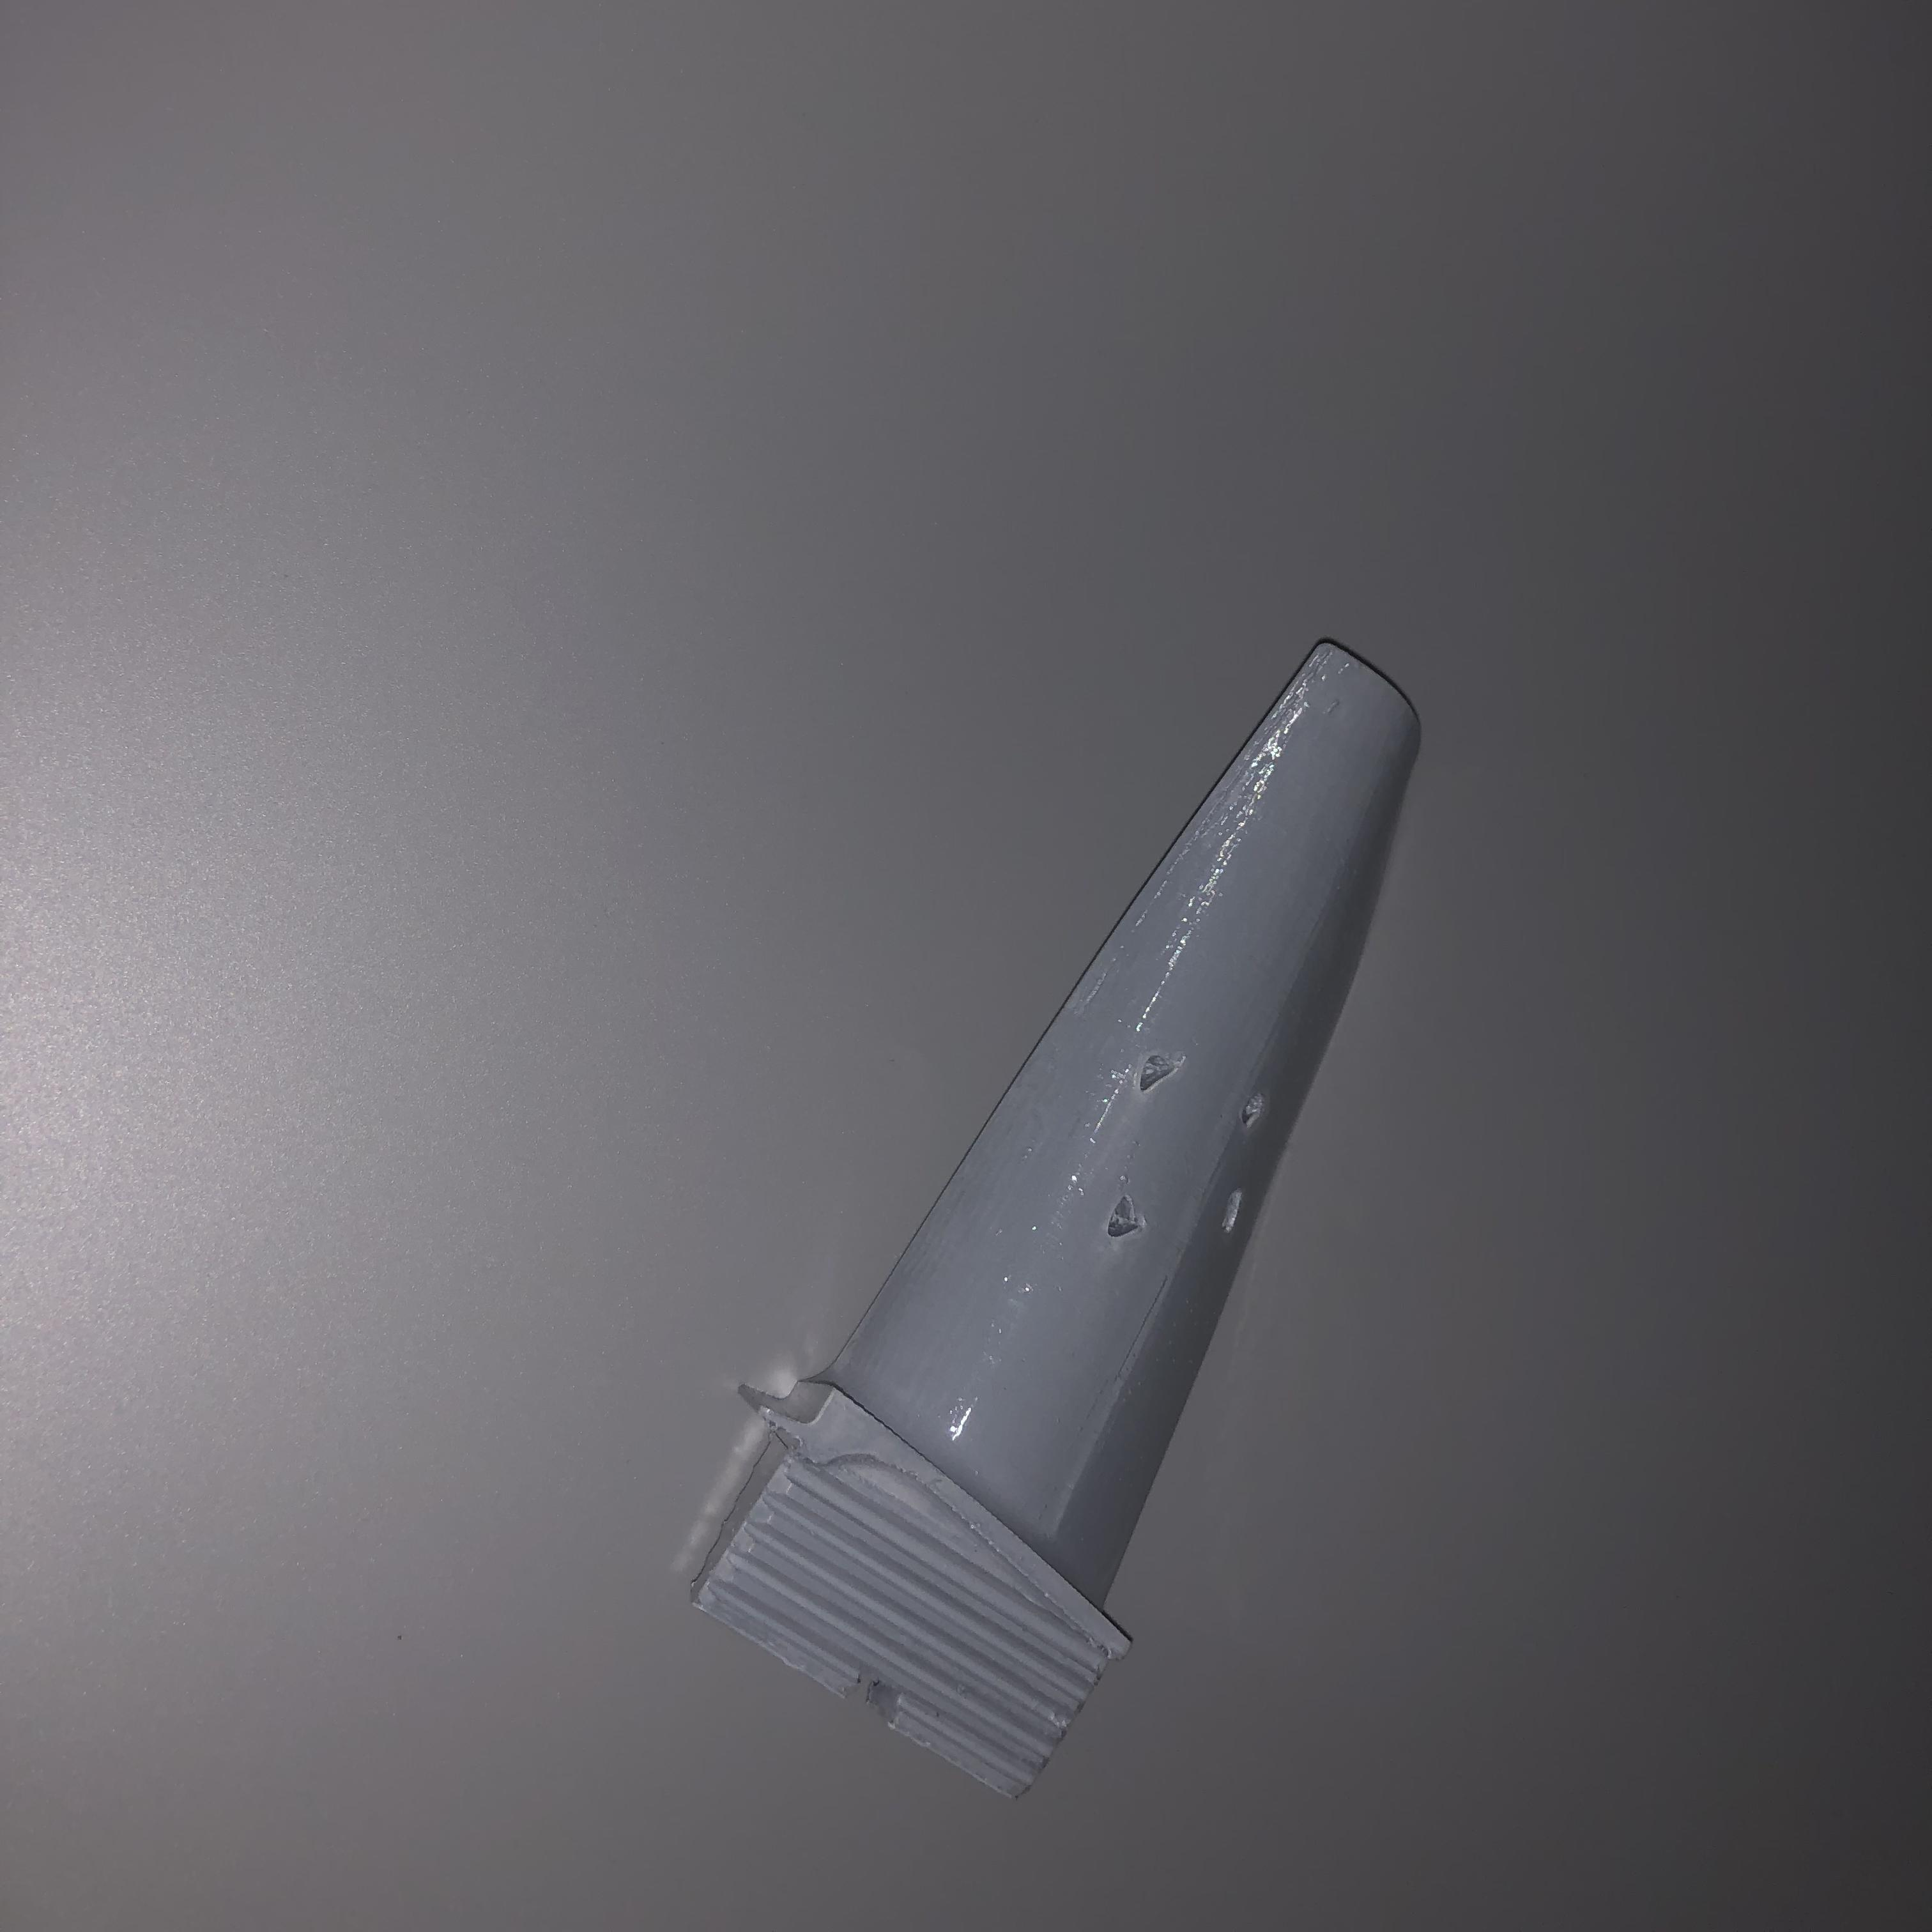breakdown: (1118, 1058, 1263, 1249)
